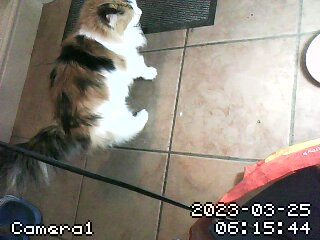clara: (27, 1, 176, 195)
